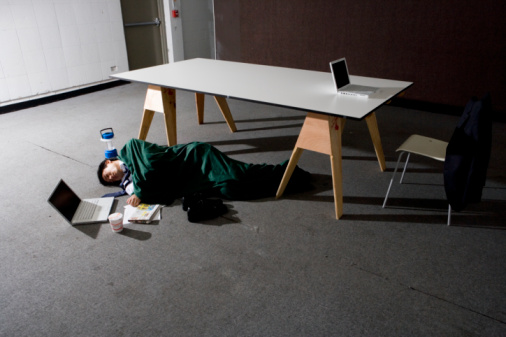deitado: (75, 130, 275, 226)
